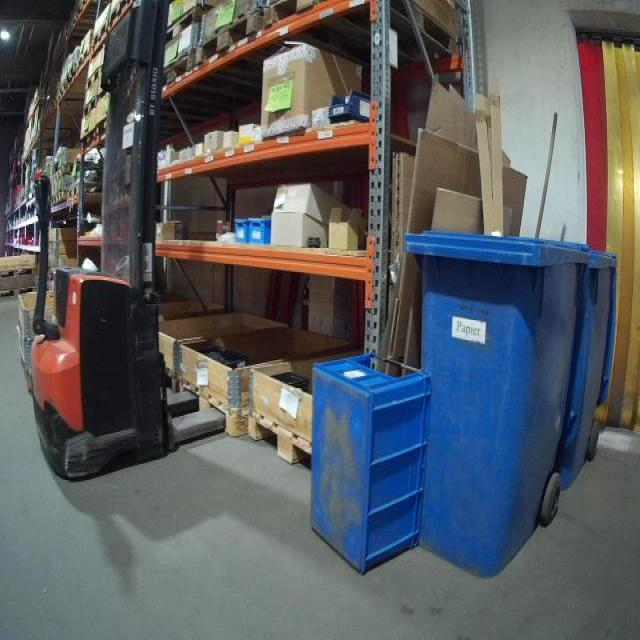pallet: (264, 0, 461, 74), (195, 9, 263, 69), (178, 382, 250, 437), (246, 412, 313, 471), (164, 4, 199, 47), (160, 54, 194, 89), (0, 286, 34, 301), (85, 65, 103, 93), (109, 0, 130, 23), (82, 94, 100, 118), (0, 267, 35, 279), (91, 22, 107, 47), (76, 47, 90, 69), (82, 129, 97, 147), (96, 117, 109, 136), (63, 67, 75, 87), (68, 185, 81, 198), (57, 191, 63, 204)
pallet_truck: (21, 2, 244, 490)
small_load_carrier: (244, 215, 269, 248), (232, 215, 246, 243)
